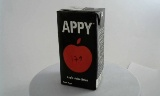appy: (52, 6, 99, 90)
